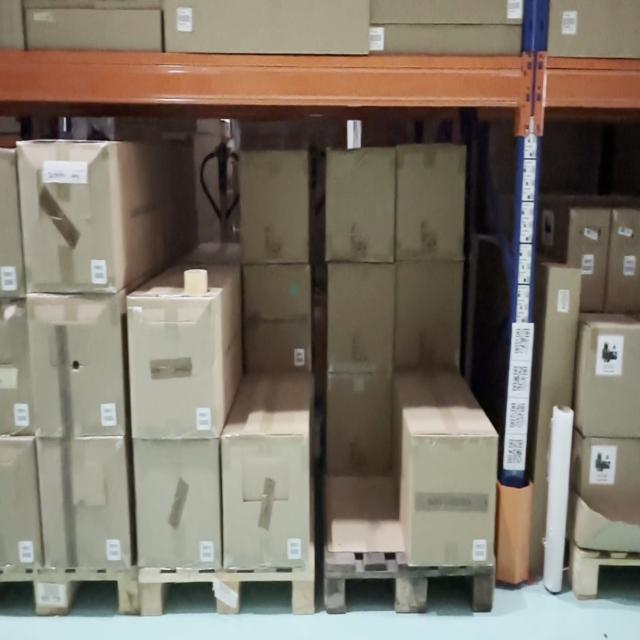box: (132, 298, 219, 438), (25, 141, 107, 289), (36, 296, 118, 434), (409, 437, 496, 567), (134, 442, 221, 570), (222, 438, 308, 566), (46, 438, 122, 566), (327, 150, 394, 262), (399, 147, 463, 260), (395, 264, 463, 369), (328, 265, 394, 373), (242, 153, 308, 261), (246, 266, 309, 374), (329, 377, 390, 473), (587, 327, 640, 435), (0, 441, 41, 567), (583, 440, 640, 521), (0, 299, 34, 432), (569, 208, 610, 311), (0, 149, 27, 297), (607, 211, 640, 310)
